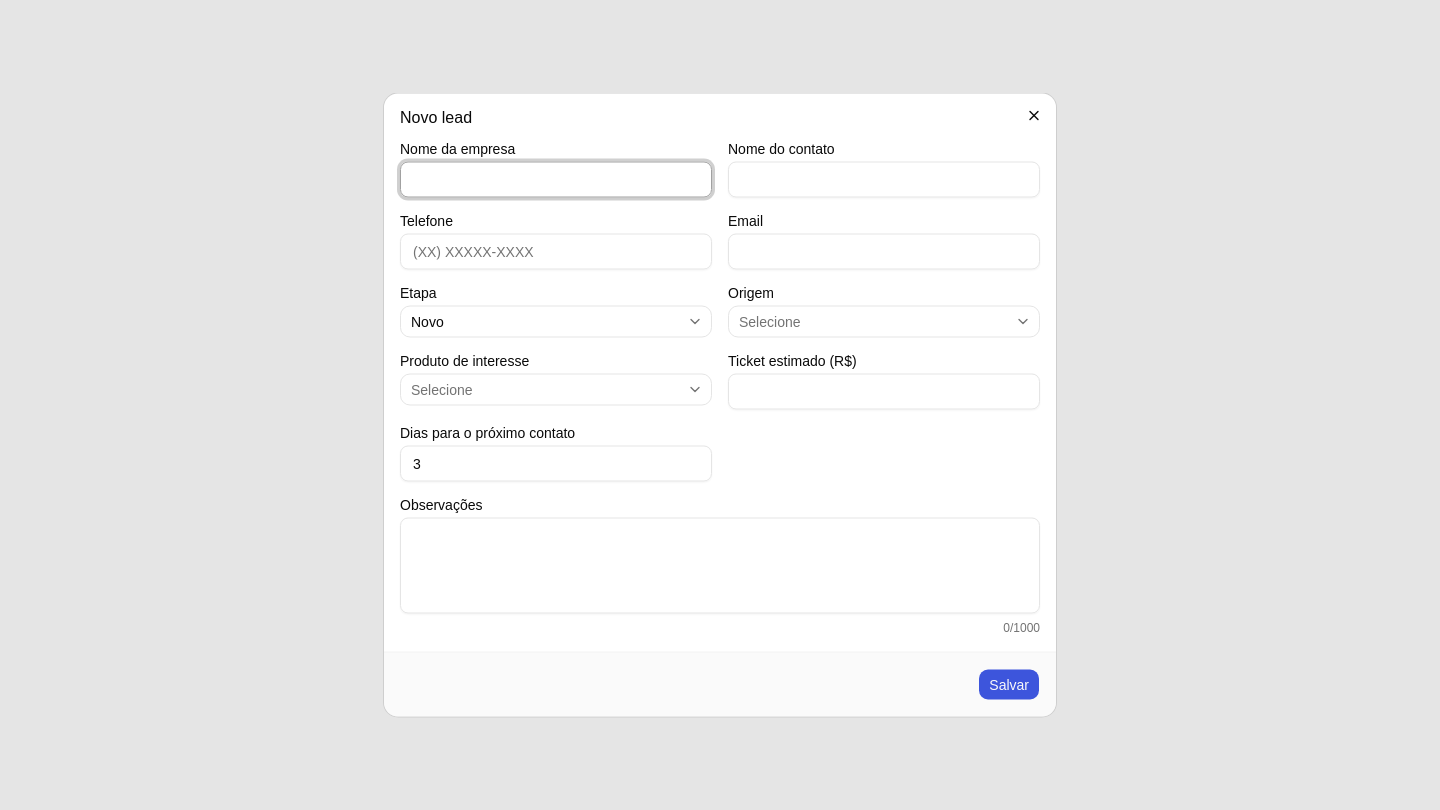
Test: LeadFormDialog › mostra contador de caracteres em observações
The width and height of the screenshot is (1440, 810).
Type "teste" into the text box labelled "Observações".
click(720, 566); type("teste")  # box left=400, top=518, right=1040, bottom=614
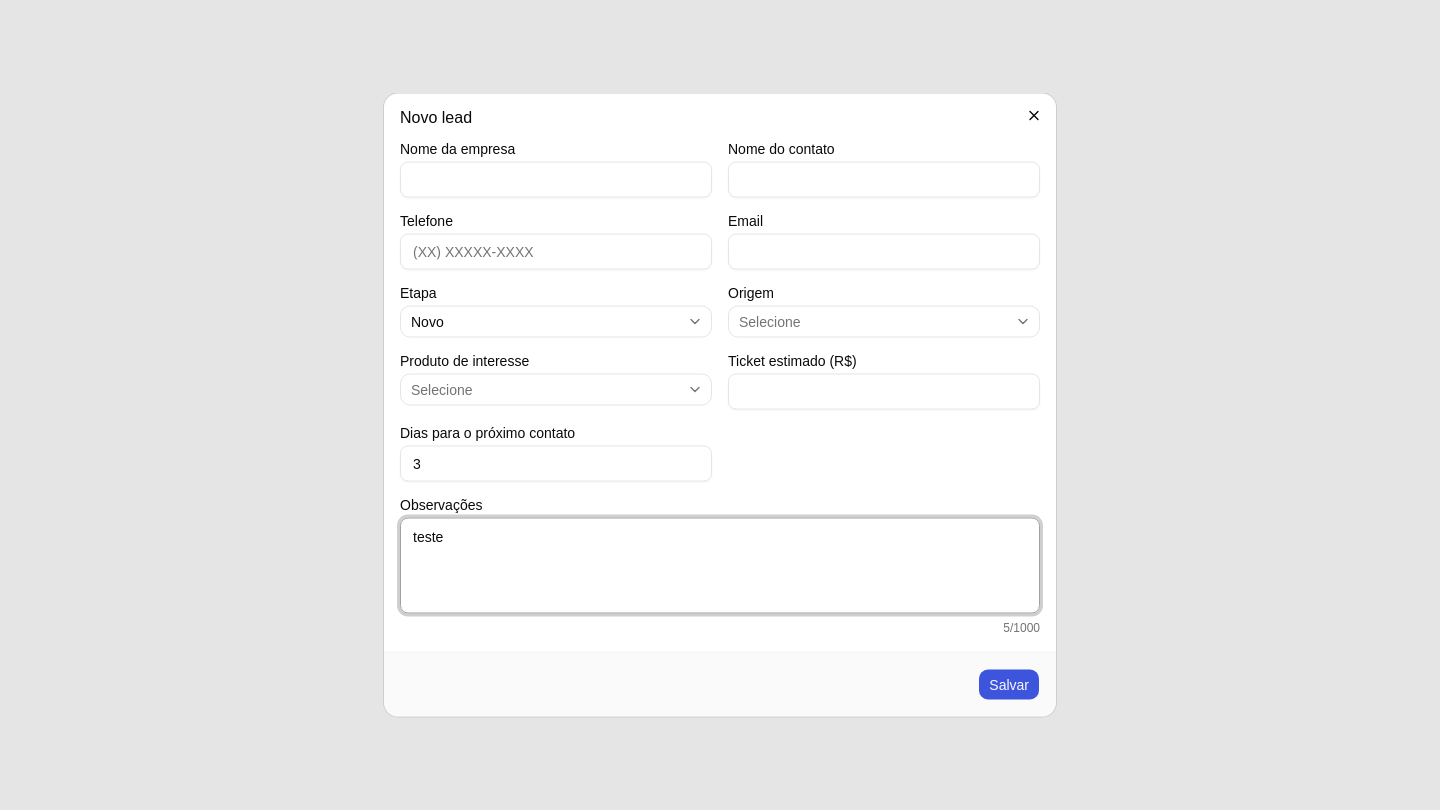
Now the text "5/1000" is shown, box left=1003, top=620, right=1040, bottom=636
